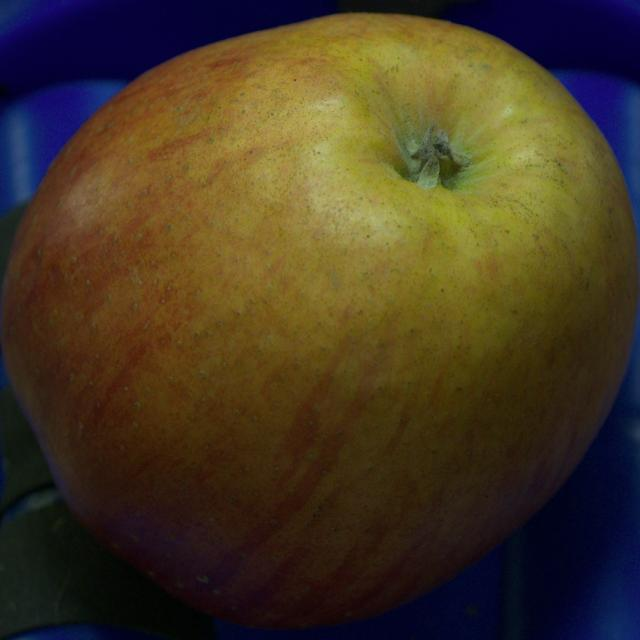apple: (0, 14, 639, 628)
